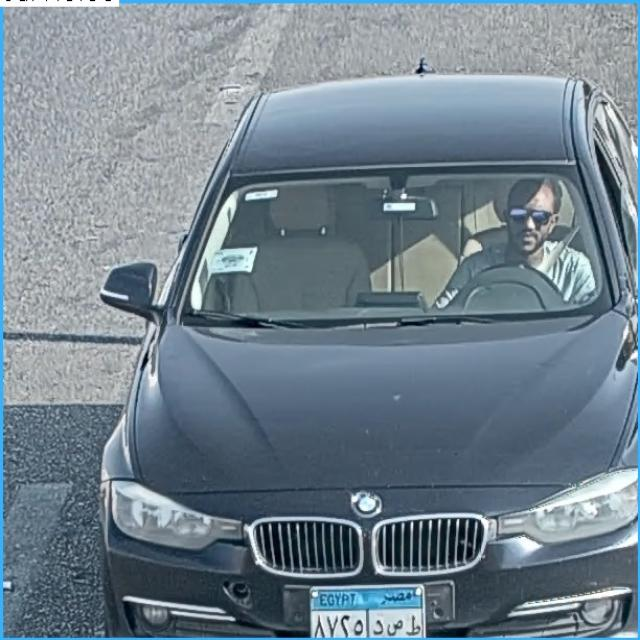windshield: (198, 175, 604, 311)
